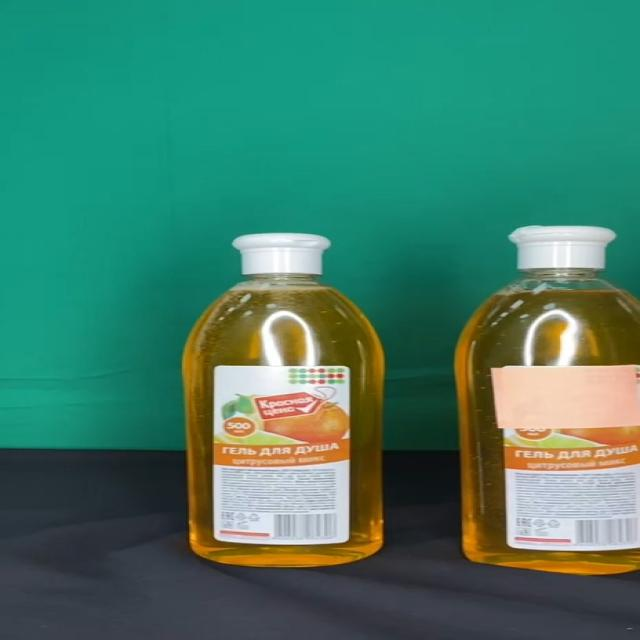Bottle: (182, 233, 386, 568), (453, 226, 640, 575)
Cap: (507, 226, 615, 270), (232, 233, 333, 275)
